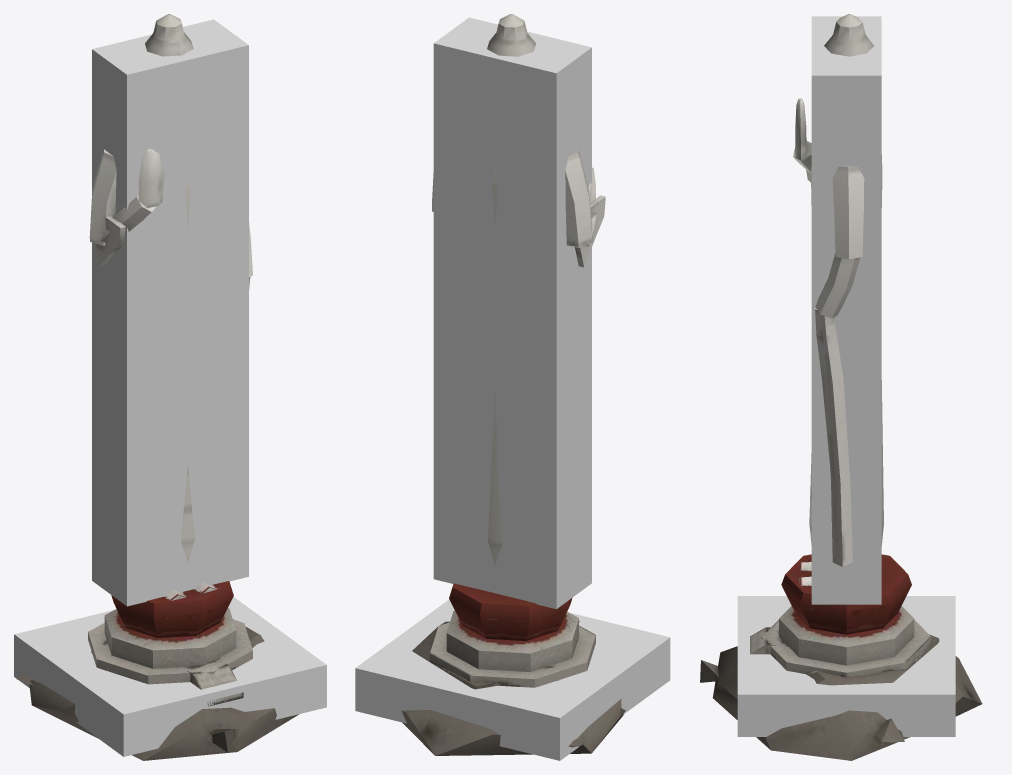
File: buddha_statue.glb
3 views of the same model, side by side, from view 1: azimuth 30°, elevation 25°; view 2: azimuth 150°, elevation 25°; view 3: azimuth 270°, elevation 25° (orthographic).
Visible parts, largest first — view 1: COL_buddha_fig, buddha_statue_body, COL_buddha_rock; view 2: COL_buddha_fig, buddha_statue_body, COL_buddha_rock; view 3: buddha_statue_body, COL_buddha_fig, COL_buddha_rock.
Boxes of the visible parts, x1,y1,x2,y2 form: COL_buddha_fig: (92, 19, 248, 606); buddha_statue_body: (16, 14, 299, 760); COL_buddha_rock: (14, 597, 326, 756); COL_buddha_fig: (433, 17, 591, 608); buddha_statue_body: (402, 14, 625, 755); COL_buddha_rock: (355, 599, 670, 760); buddha_statue_body: (700, 14, 982, 760); COL_buddha_fig: (811, 16, 881, 604); COL_buddha_rock: (737, 596, 955, 736).
Size of the model in its own units: 37.66 by 97.1 by 38.29.
1 material, 1 textured.
